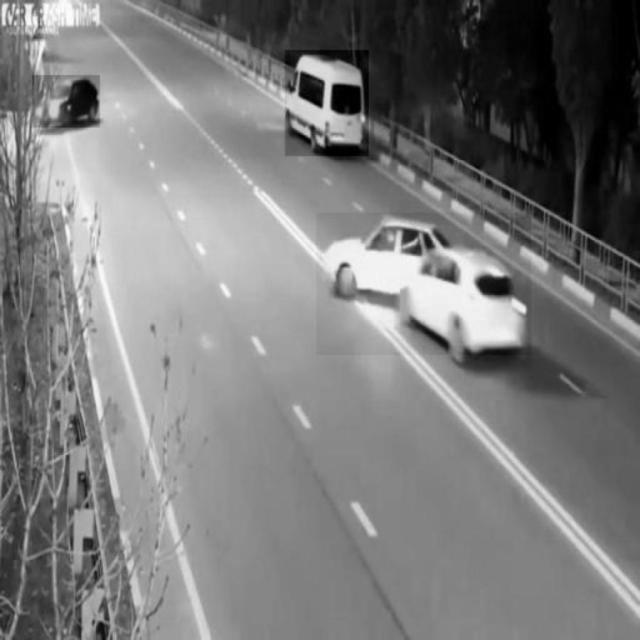accident: (317, 213, 532, 355)
vehicle: (286, 50, 369, 156), (33, 75, 100, 127)
